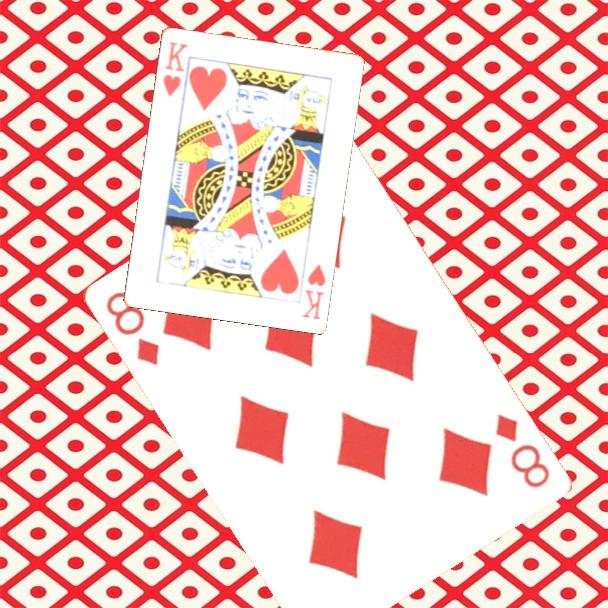d08: (101, 288, 162, 369), (491, 410, 552, 491)
h13: (159, 38, 190, 99), (298, 260, 328, 322)
